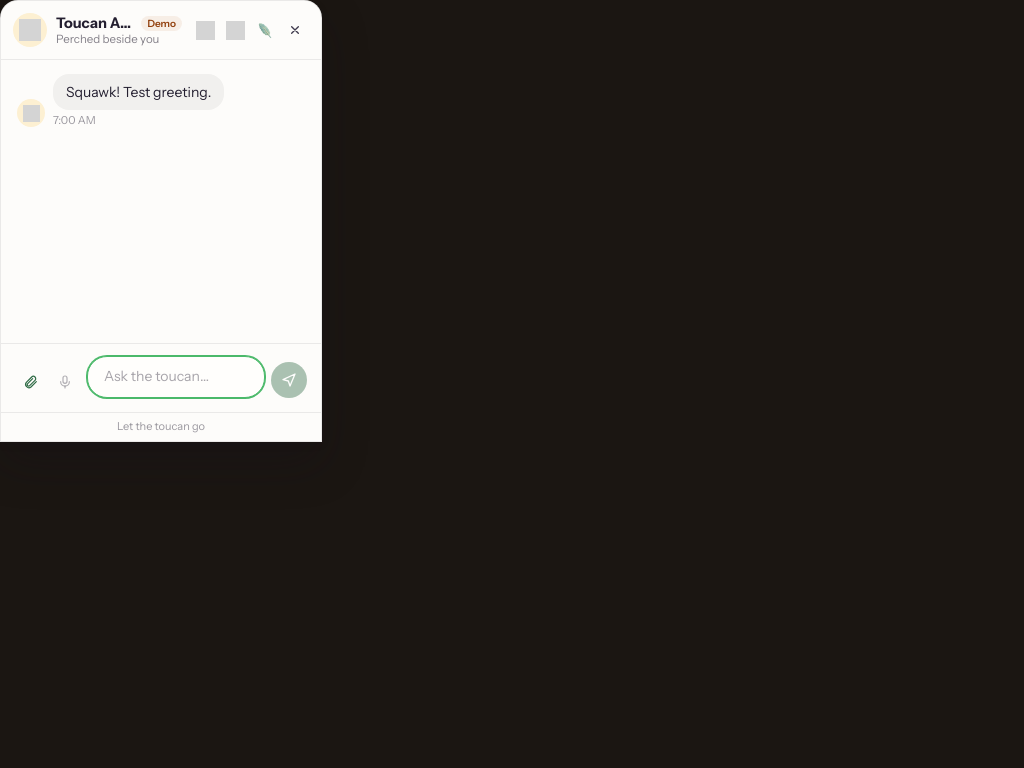
it: Toucan T10 multimodal composer preparation › keeps Enter-to-send and the existing text-only ask contract intact
Click the button named "Attach a file".
click(31, 382)  # box [15,366,47,398]
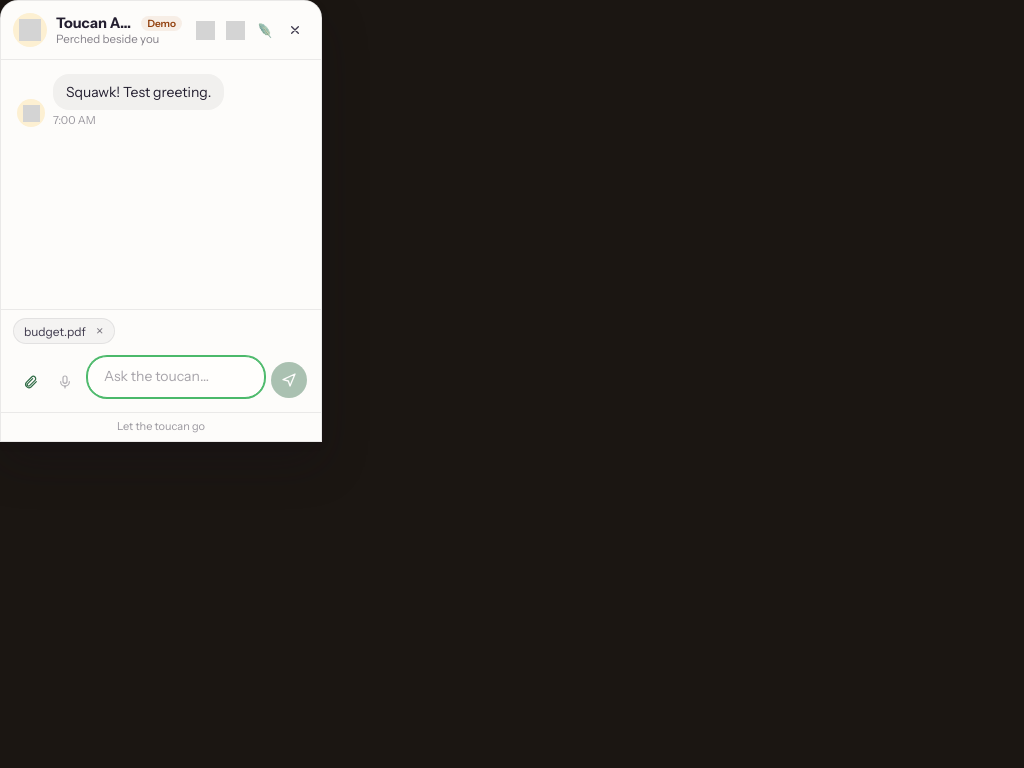
Type "who is online?" into the text box named "Message the toucan".
click(176, 377); type("who is online?")  # box [87,356,265,398]
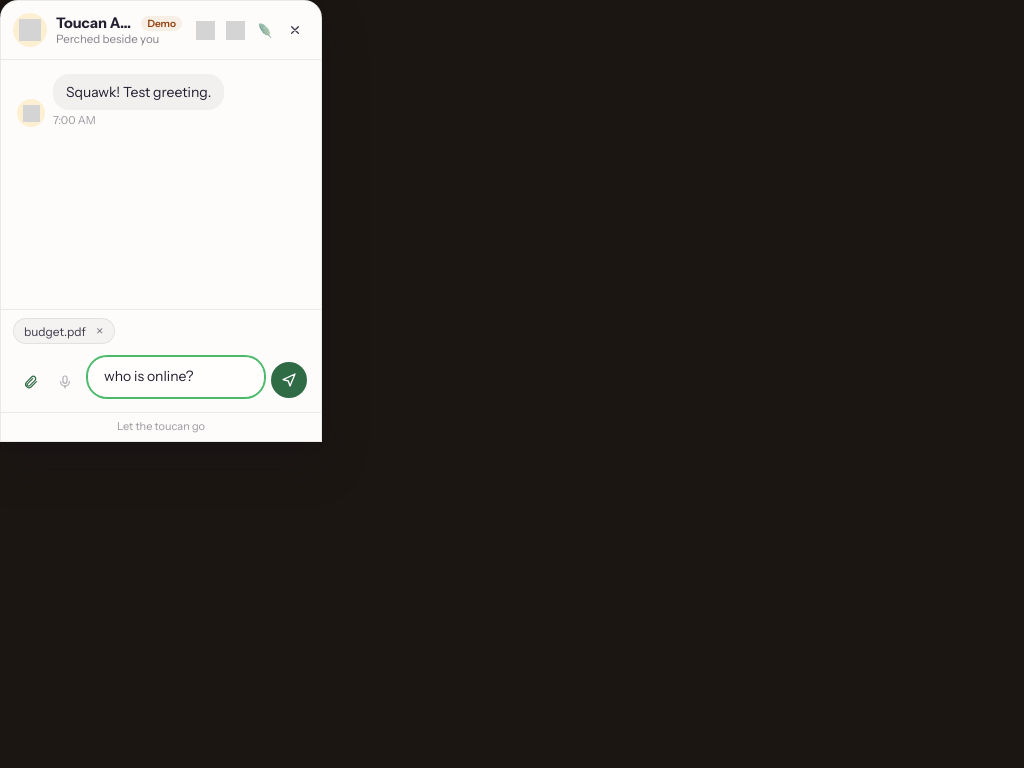
Press Enter in the text box named "Message the toucan", box [87,356,265,398]
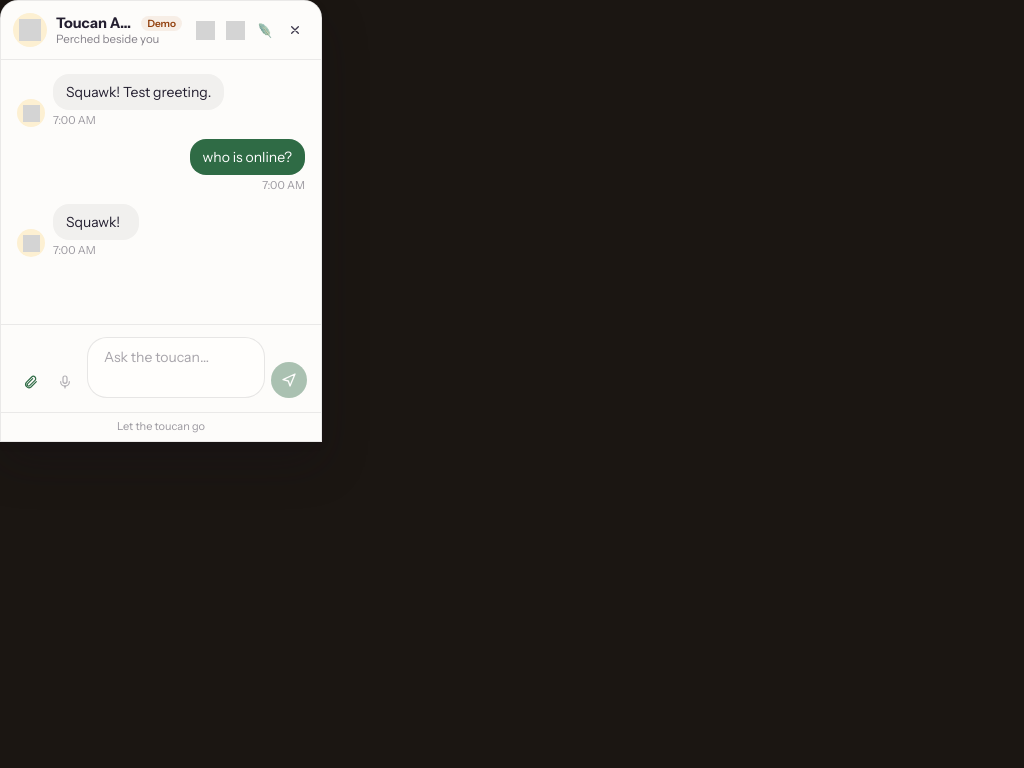
Expected: the text "who is online?" is shown, [190,139,305,175]
Expected: the field labelled "Attachments" is gone
